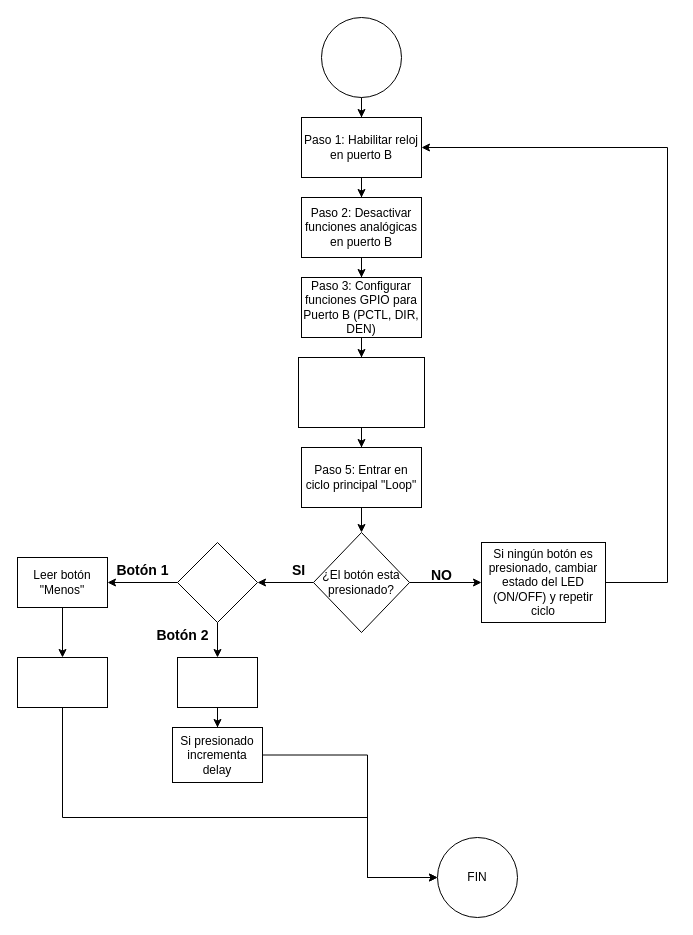
The diagram is 693 pixels wide and 935 high, and some of its shapes have lost their labels. Each missing label, with the centre of its shape:
INICIO: (361,57)
Leer botón "Más": (217,682)
Paso 4: Configurar Puerto B7 como salida (LED) y B5, B6 como entradas (botones): (361,392)
Si presionado decrementa delay: (62,682)
¿Qué botón es?: (217,582)
